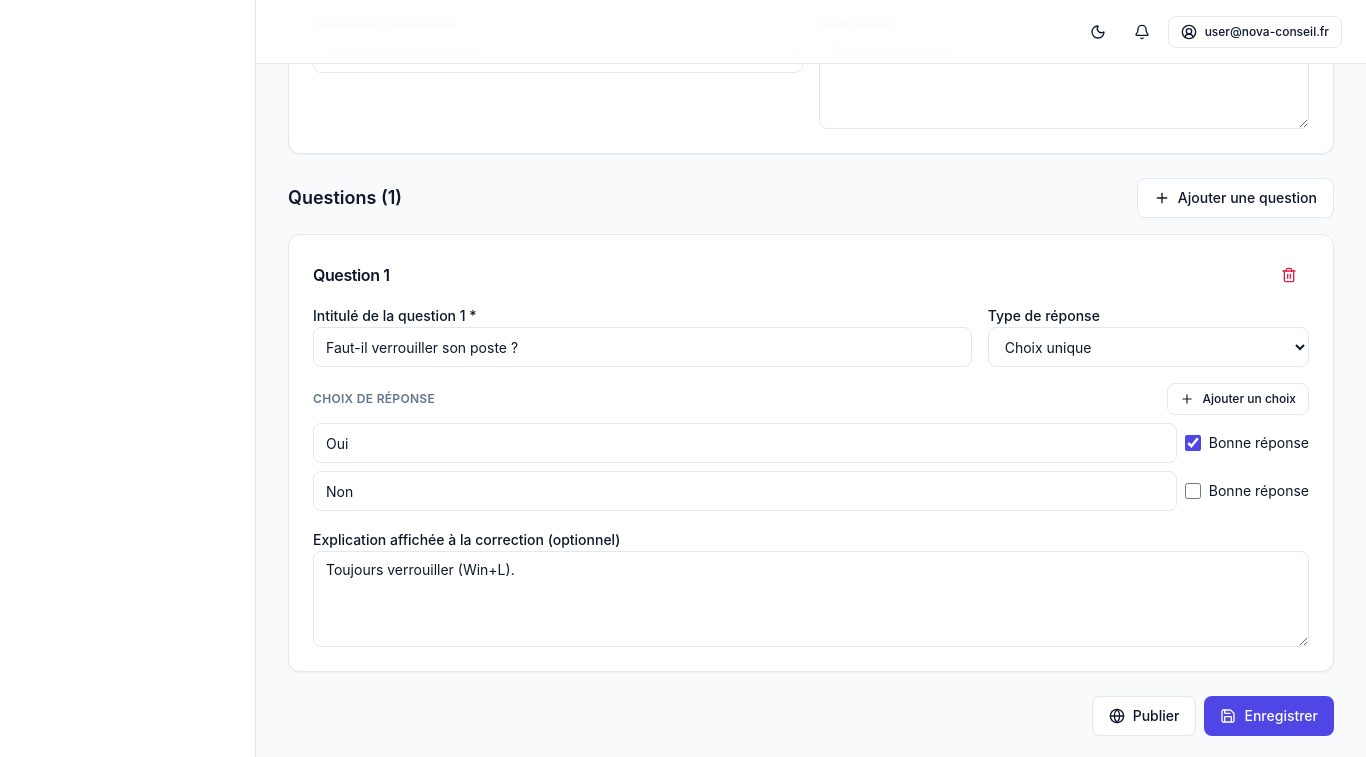
Test: OnboardingQuizzesFlows › saves quiz, surfaces 400 publish validation error without losing state, and shows results tab
Later steps or results of the test are not shown.
(page scrolled)
Click the button "Publier" at (1144, 716), box [1092, 696, 1196, 736]
(page scrolled)
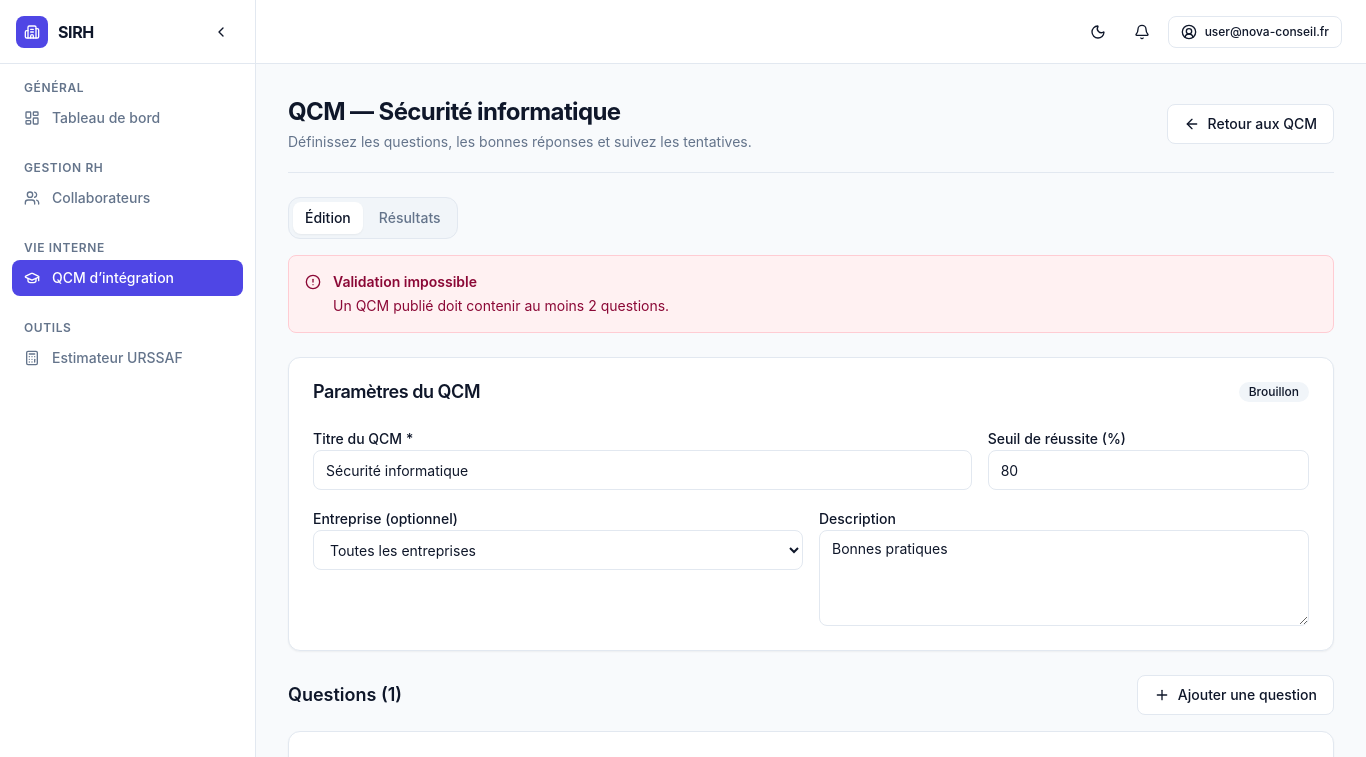
Expected: the field showing "Sécurité informatique" is shown, [313, 450, 972, 490]
Now the text "Un QCM publié doit contenir au moins 2 questions." is shown, box [333, 296, 669, 316]
Click the tab "Résultats" at (410, 218), box [367, 202, 453, 234]
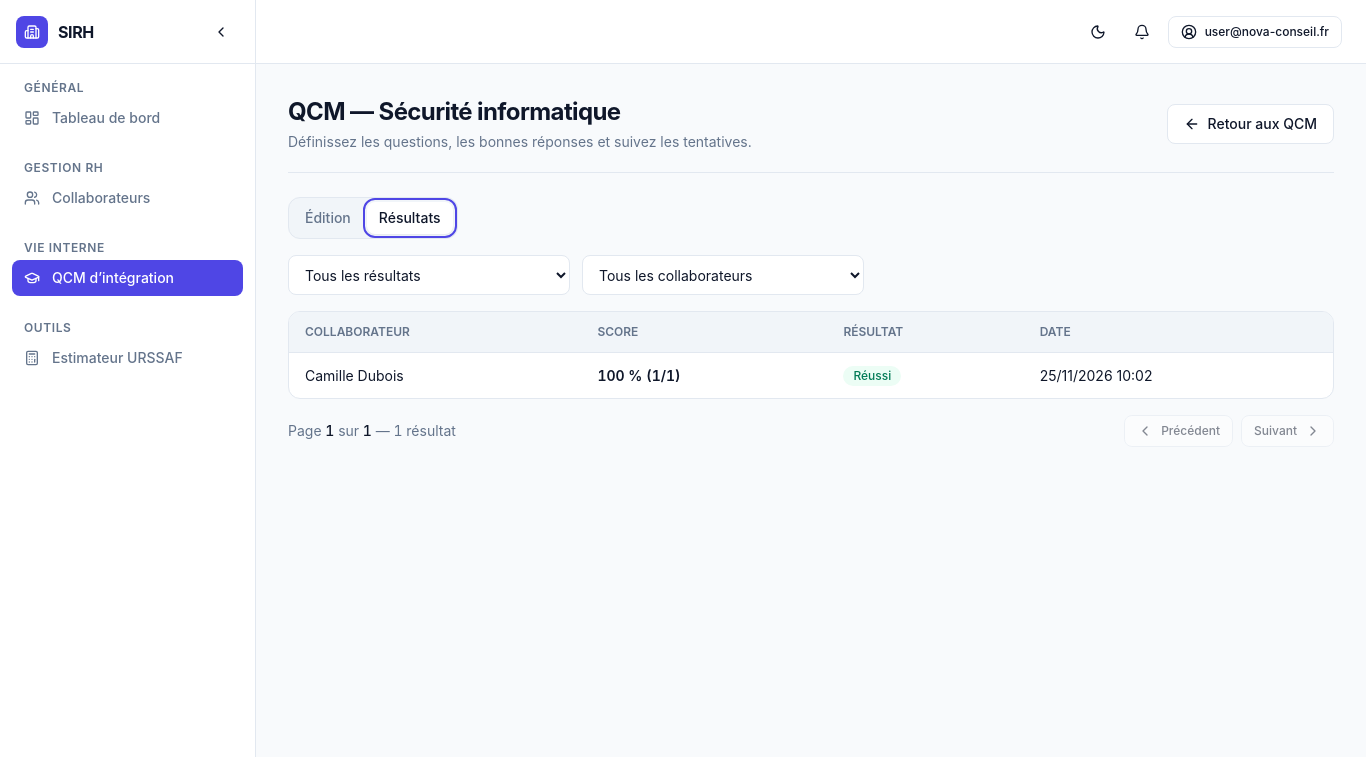
Now the text "Camille Dubois" is shown 2 times
